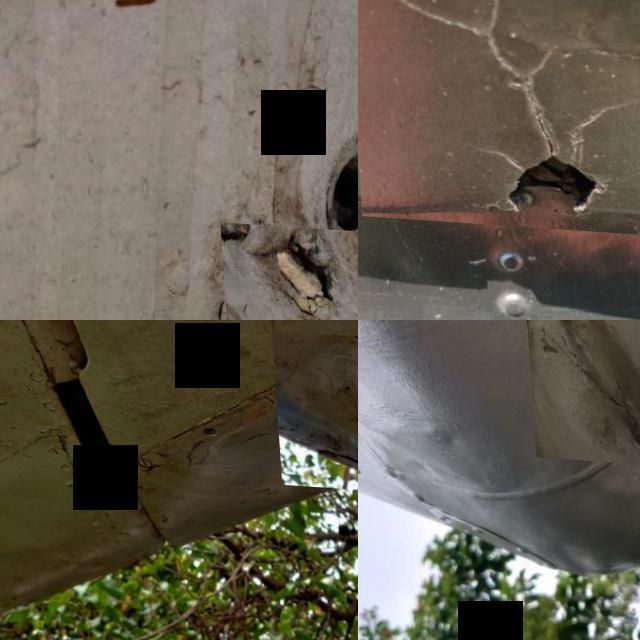Crack: (358, 0, 640, 229), (216, 219, 358, 320)
Dent: (522, 320, 640, 464), (268, 326, 358, 489)
Missing_Fastener: (189, 410, 228, 444)
